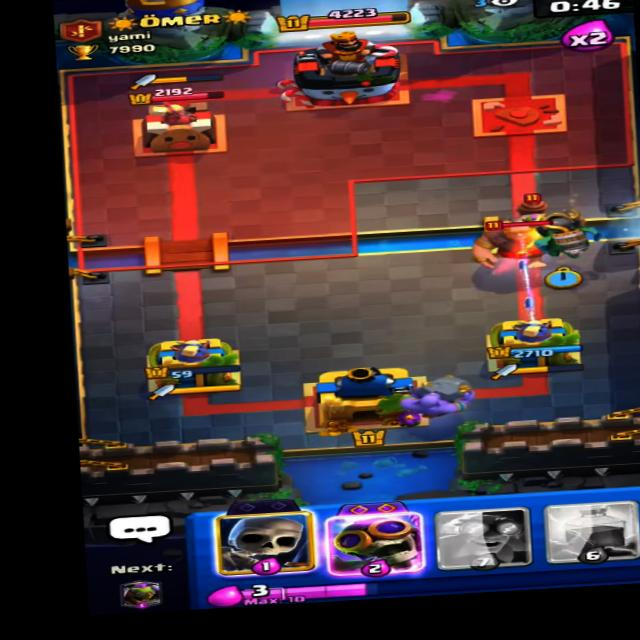giant: (465, 210, 569, 273)
goblin-machine: (490, 184, 580, 242)
